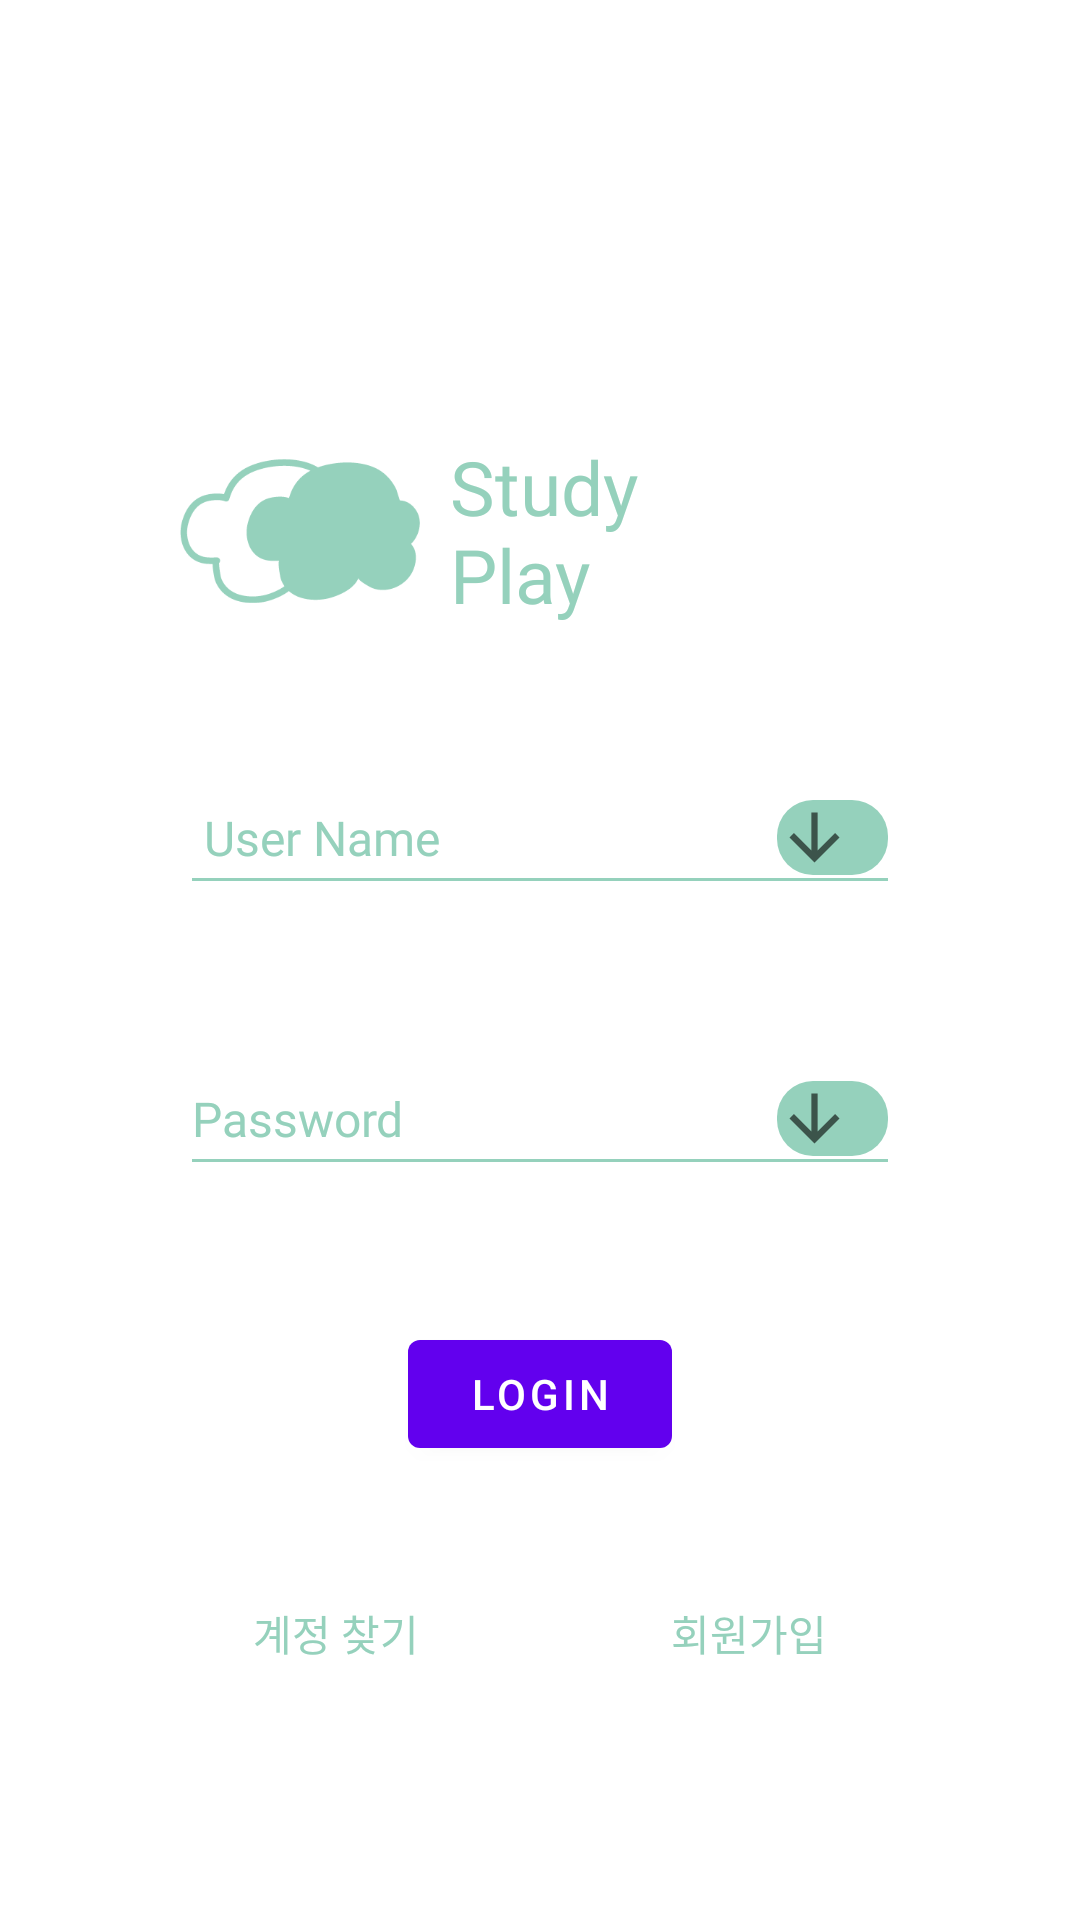

Named icons in this screenshot (1080px×1920px) and their bounding boxes, (x1, y1, x2, y2):
cloud: (180, 459, 420, 603)
